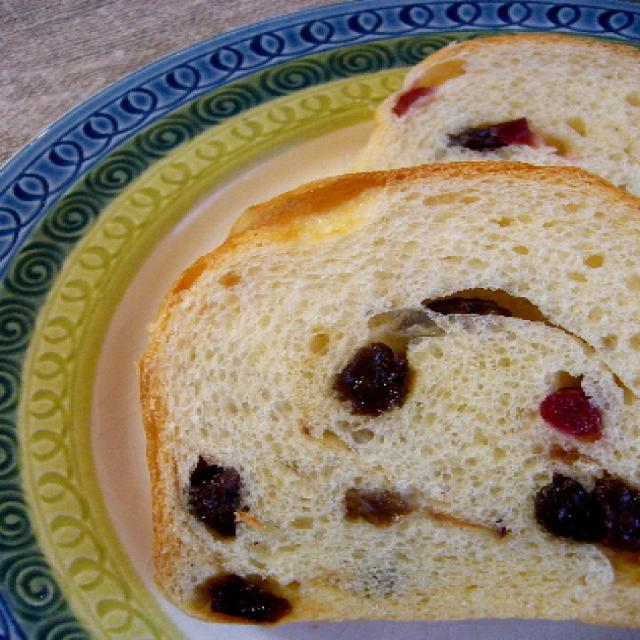面包点心: (116, 0, 640, 640)
